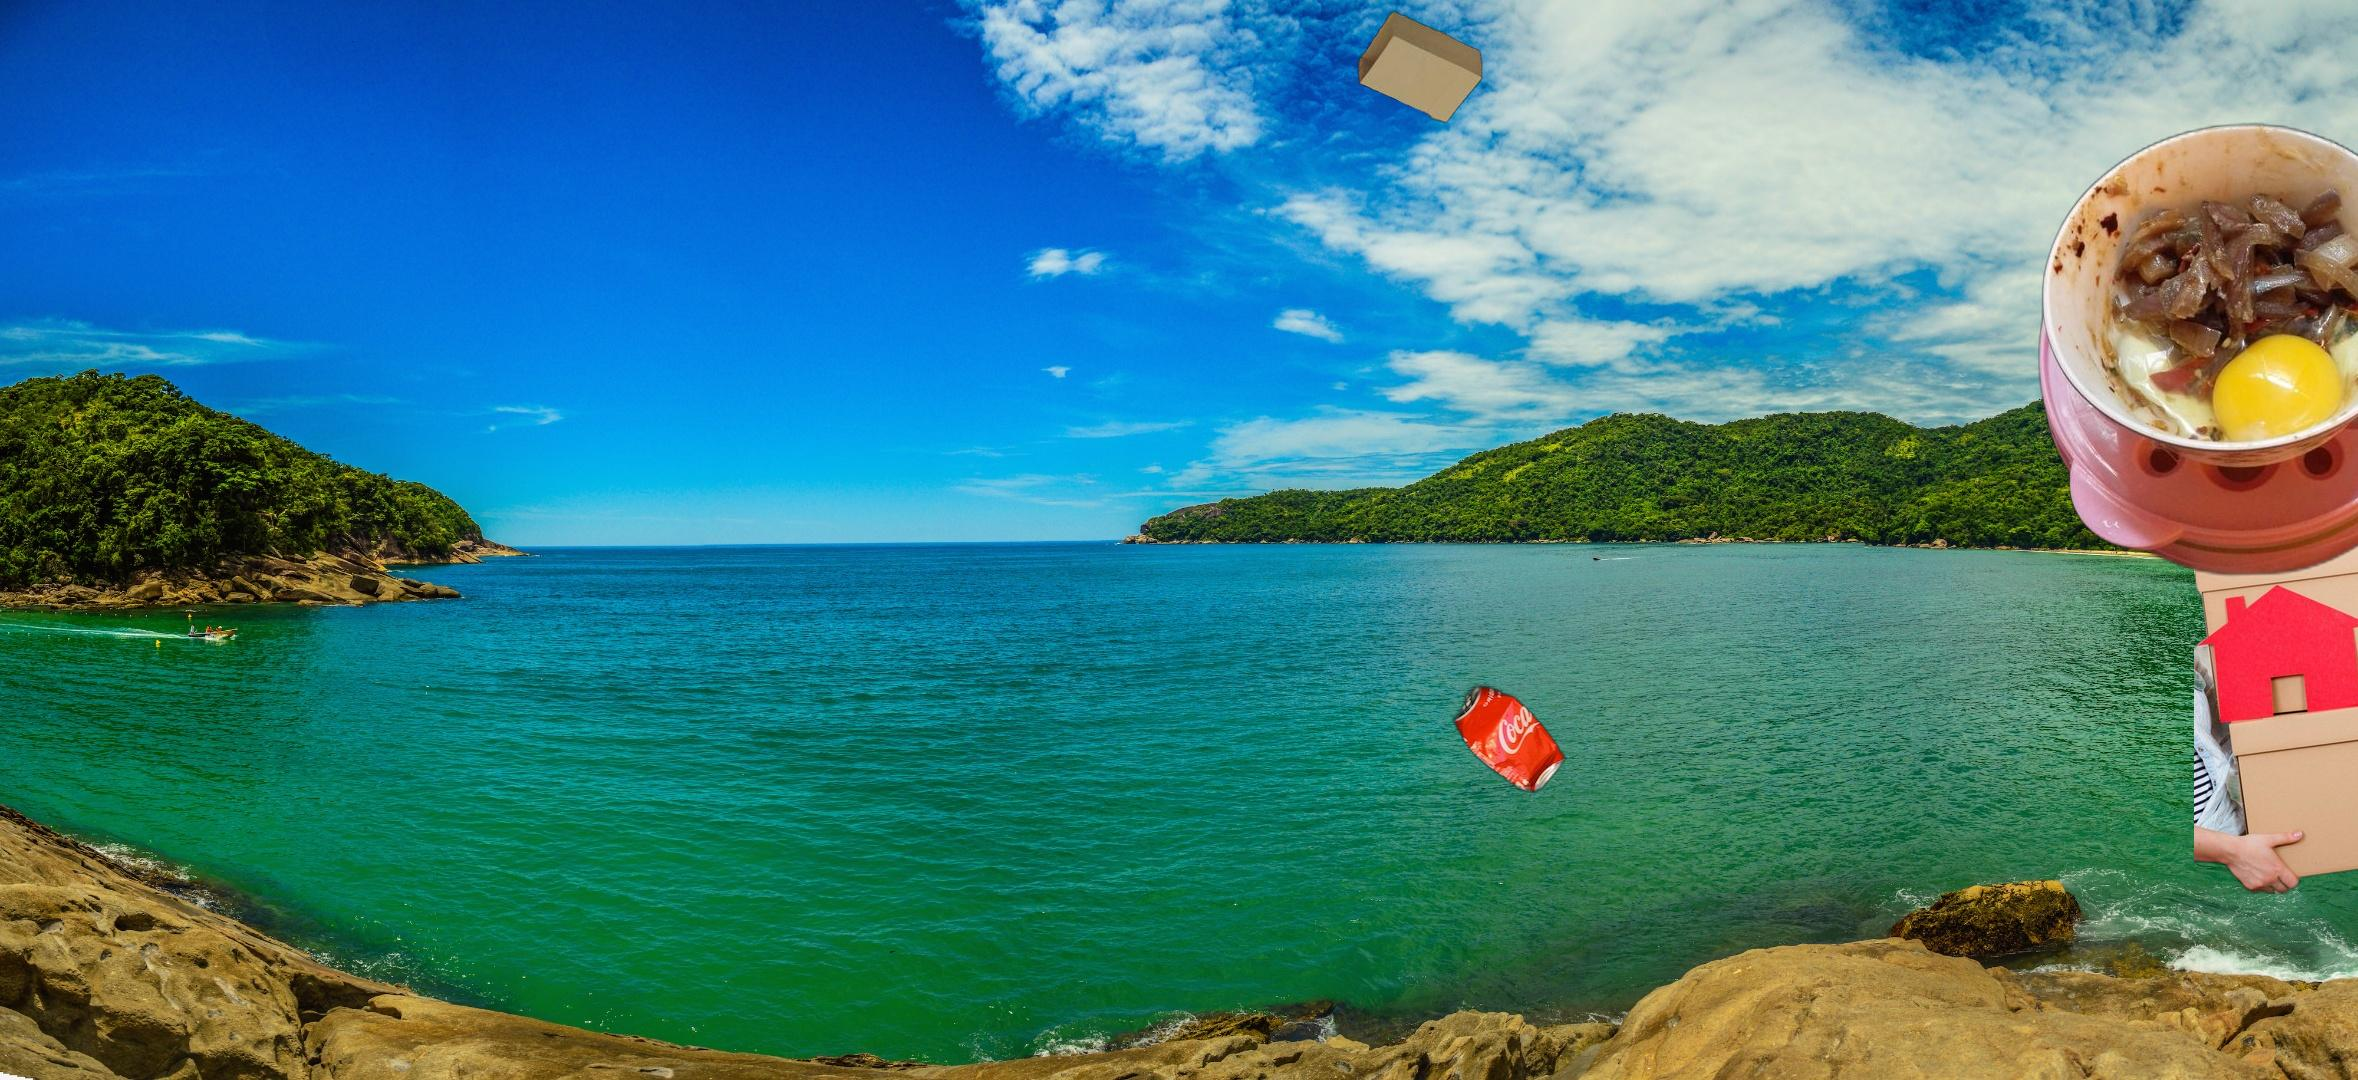biological: (2035, 117, 2358, 666)
metal-cans: (1450, 680, 1570, 799)
paper-bag: (1355, 9, 1484, 126)
trashbox-cardboard: (2194, 501, 2358, 893)
